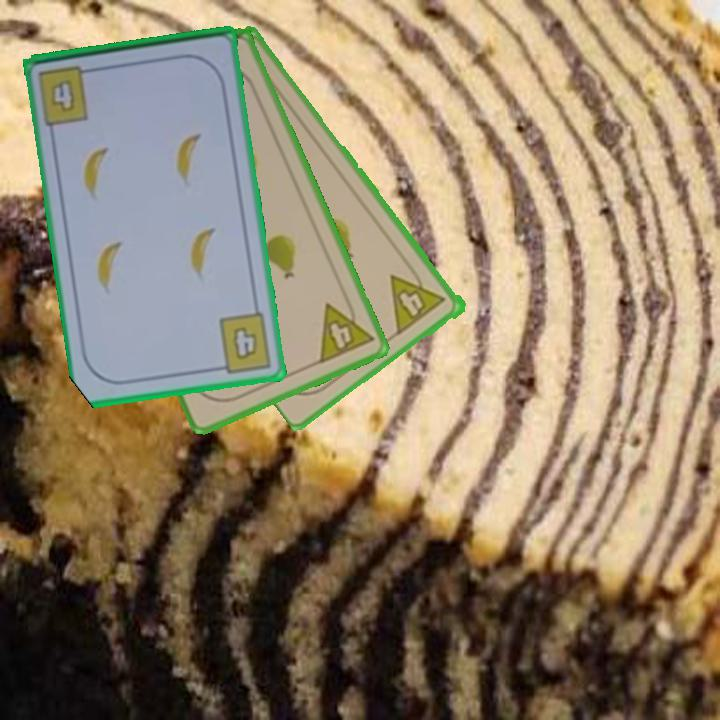4b: (34, 61, 99, 128), (211, 309, 275, 376)
4p: (386, 260, 450, 337), (315, 292, 377, 367)
